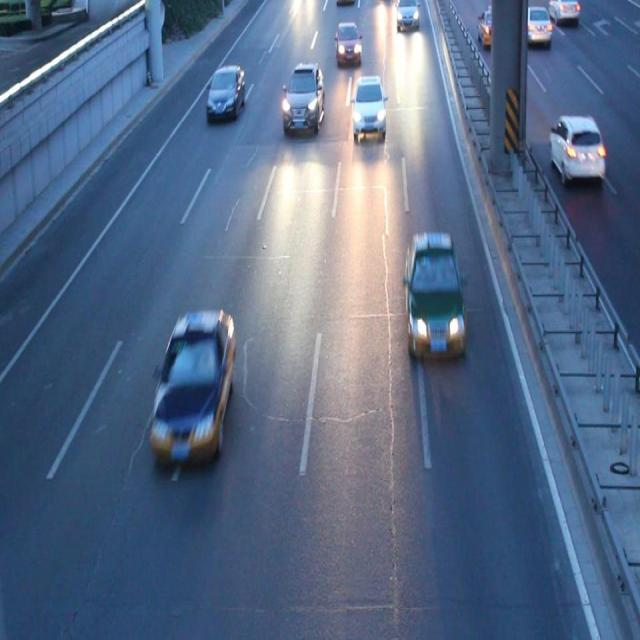car: (152, 310, 235, 463), (402, 229, 466, 359), (282, 60, 324, 132), (350, 76, 387, 144), (206, 65, 245, 120), (333, 21, 363, 67), (395, 1, 419, 32)
